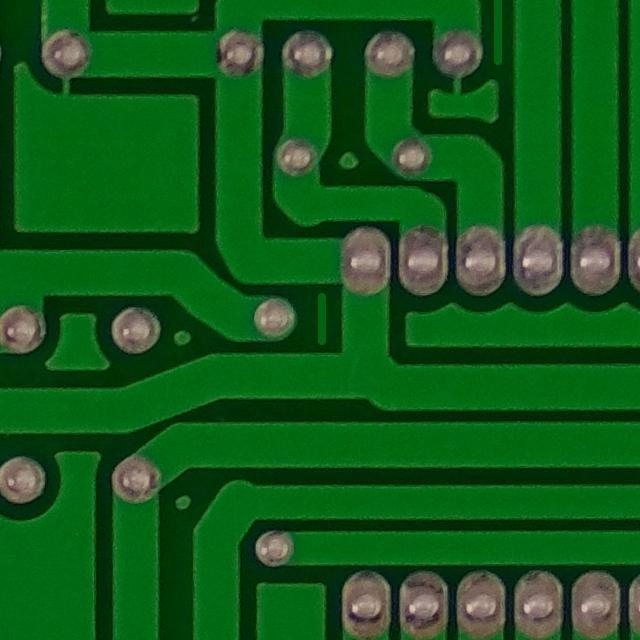spurious_copper: (300, 282, 340, 358)
